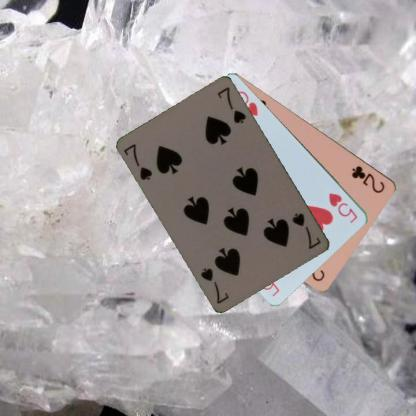2c: (349, 163, 387, 195)
5h: (326, 190, 359, 225)
7s: (289, 210, 323, 251), (122, 141, 154, 182)
